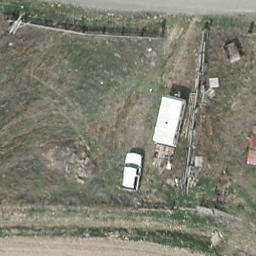camping car: (152, 90, 188, 157)
car: (116, 151, 139, 194)
